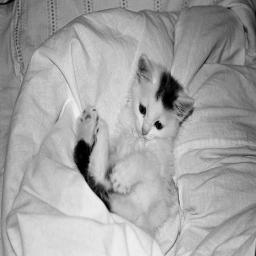catnose: (142, 123, 148, 136)
